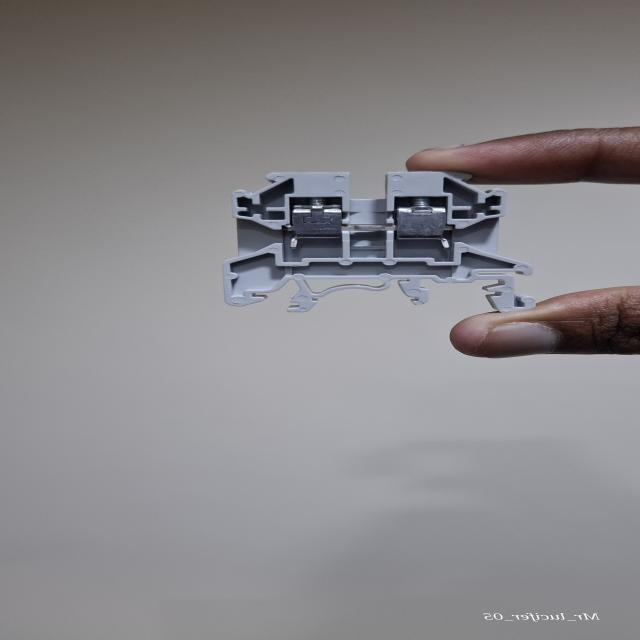Pass: (222, 170, 540, 316)
